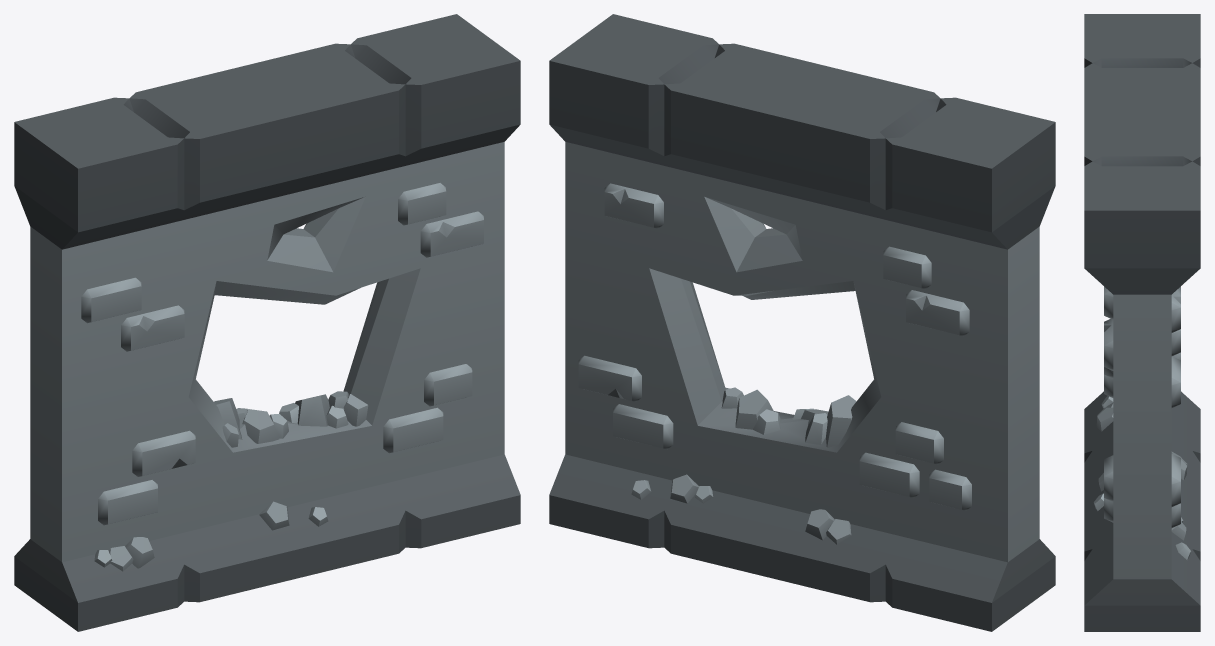
The model's file is wall_broken.fbx.
3 renders of one model, left to right at view 1: azimuth 30°, elevation 25°; view 2: azimuth 150°, elevation 25°; view 3: azimuth 270°, elevation 25°, orthographic. The views are drawn at different scales.
Parts seen in each view (by area): view 1: wall_broken; view 2: wall_broken; view 3: wall_broken.
Part boxes in pixels (<box>): wall_broken: <box>14,14,520,631</box>; wall_broken: <box>549,14,1055,631</box>; wall_broken: <box>1084,14,1200,631</box>.
Bounding box in the file's own units: 400 × 400 × 100.
Materials: 1 (1 with a texture image).
